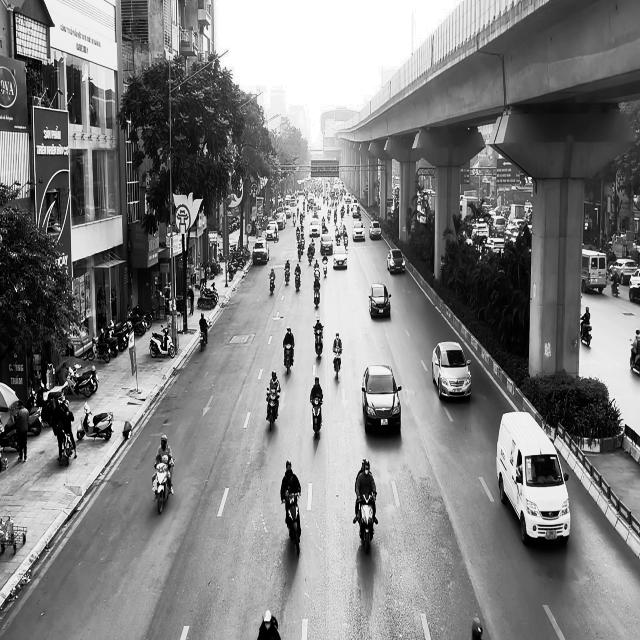car: (361, 364, 402, 433), (432, 341, 471, 400), (368, 282, 391, 318), (387, 248, 405, 274), (252, 238, 269, 265), (333, 245, 347, 269), (369, 220, 381, 239)
motorbike: (76, 401, 114, 440), (355, 492, 376, 553), (281, 491, 301, 555), (152, 456, 174, 514), (149, 322, 175, 358), (266, 388, 279, 431), (310, 396, 322, 439), (629, 337, 640, 375), (199, 319, 212, 351), (283, 342, 294, 374), (580, 318, 592, 347), (313, 326, 323, 357), (333, 348, 342, 377), (313, 283, 320, 306), (294, 271, 301, 291), (269, 275, 275, 295), (284, 267, 290, 285)
truck: (496, 410, 570, 545)
